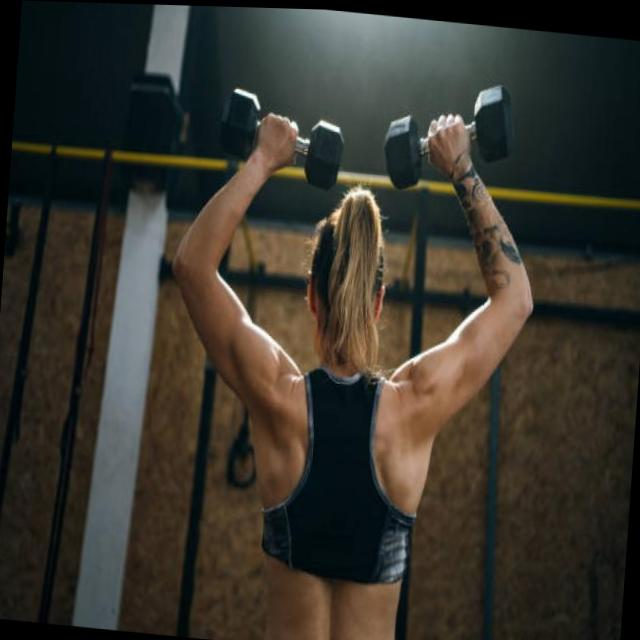no helmet: (286, 158, 412, 394)
